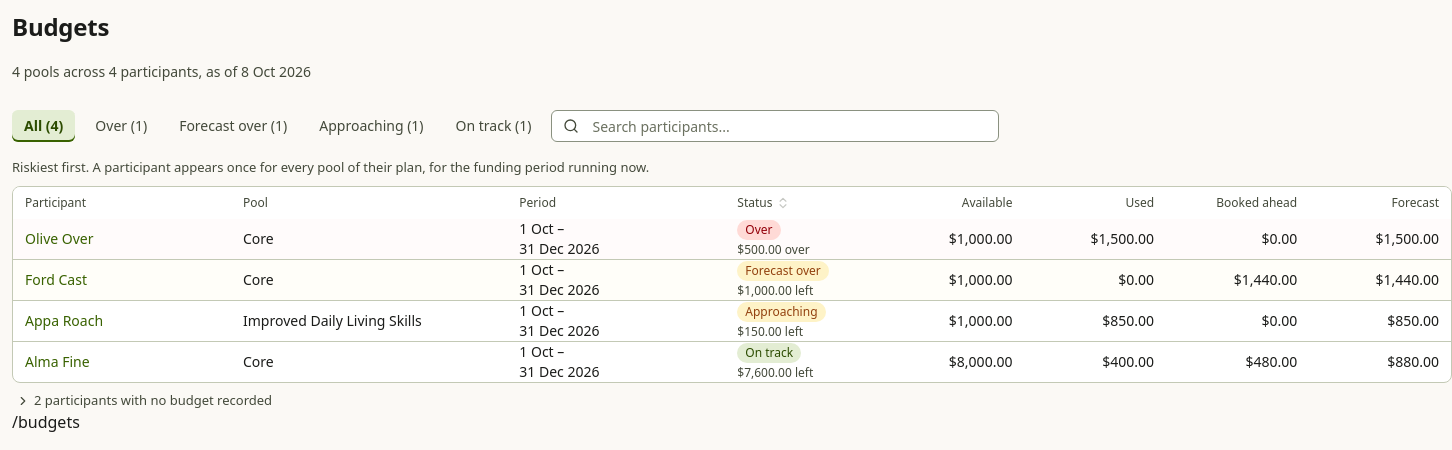
Test: BudgetsPage: filtering by status › shows only the rows of the status chosen, and puts it in the address so the list can be shared
Click the radio button labelled "Over (1)" at (121, 126), box [83,110,159,142]
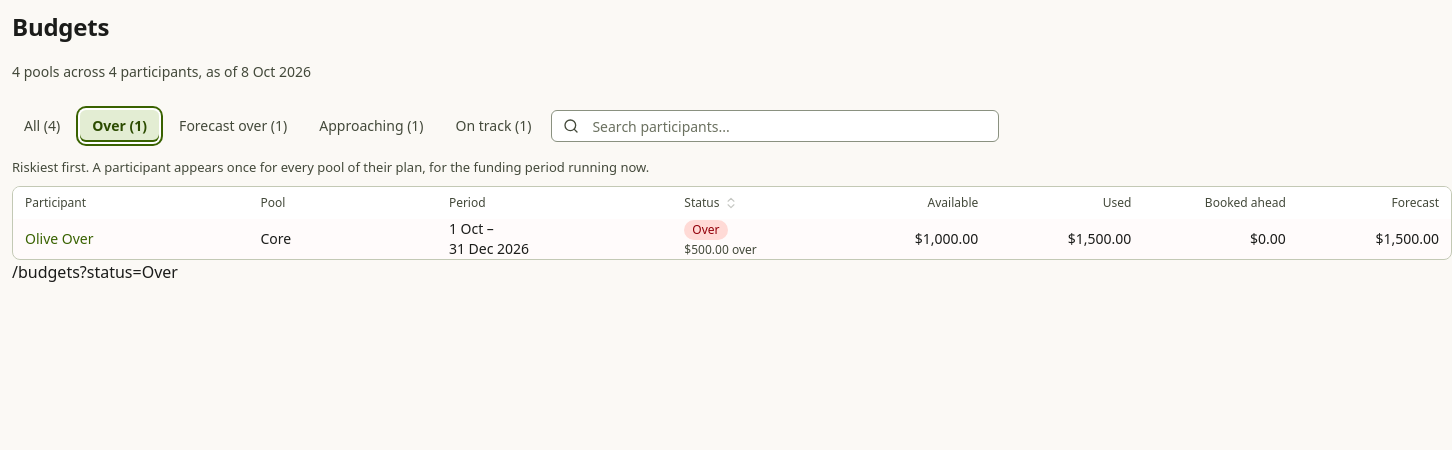
Expected: the text with test id "where" reads "/budgets?status=Over", [12,261,178,283]
Click the radio button labelled "All (4)" at (42, 126), box [12,110,72,142]
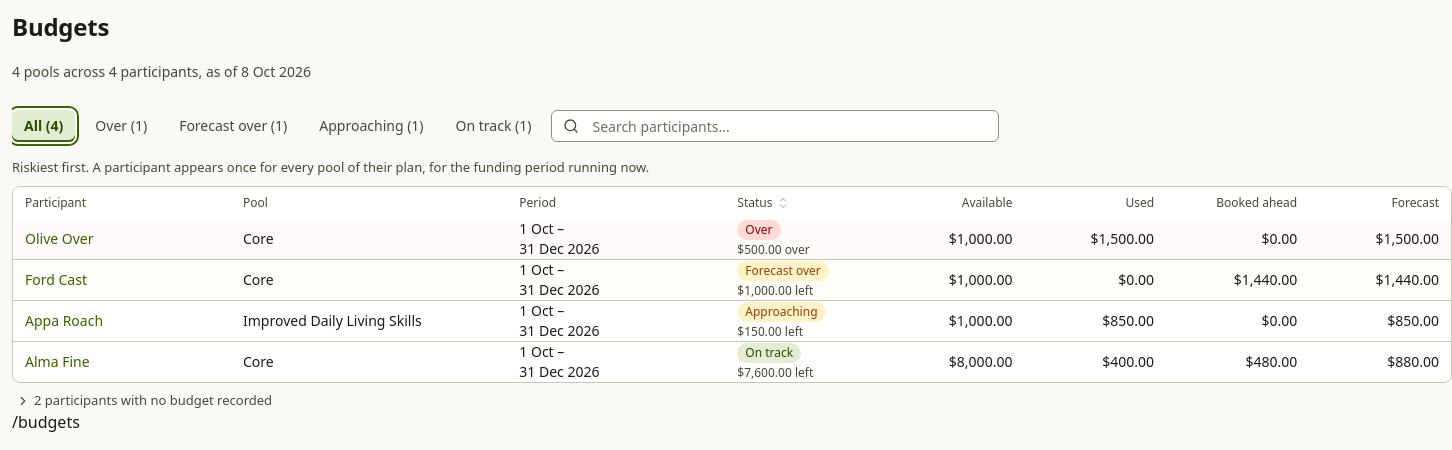
Expected: the number of links is 4, [25,229,94,248]; [25,270,87,289]; [25,311,103,330]; [25,352,90,371]
Expected: the text with test id "where" reads "/budgets", [12,411,80,433]
